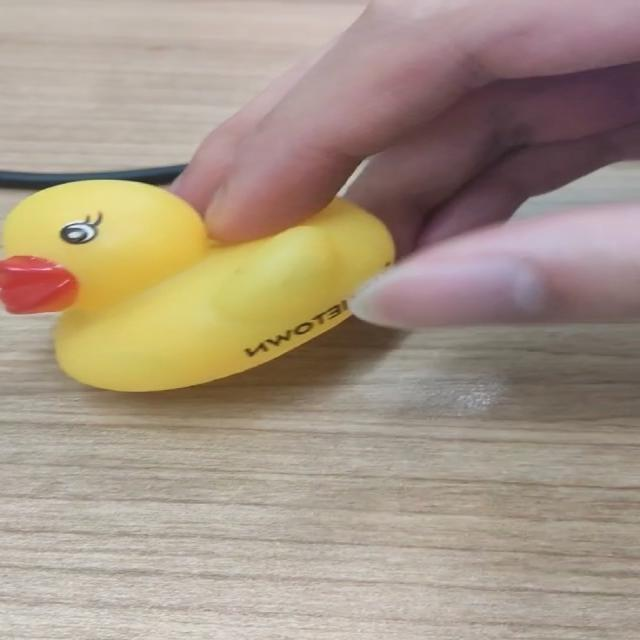rubber-duck: (0, 179, 392, 389)
